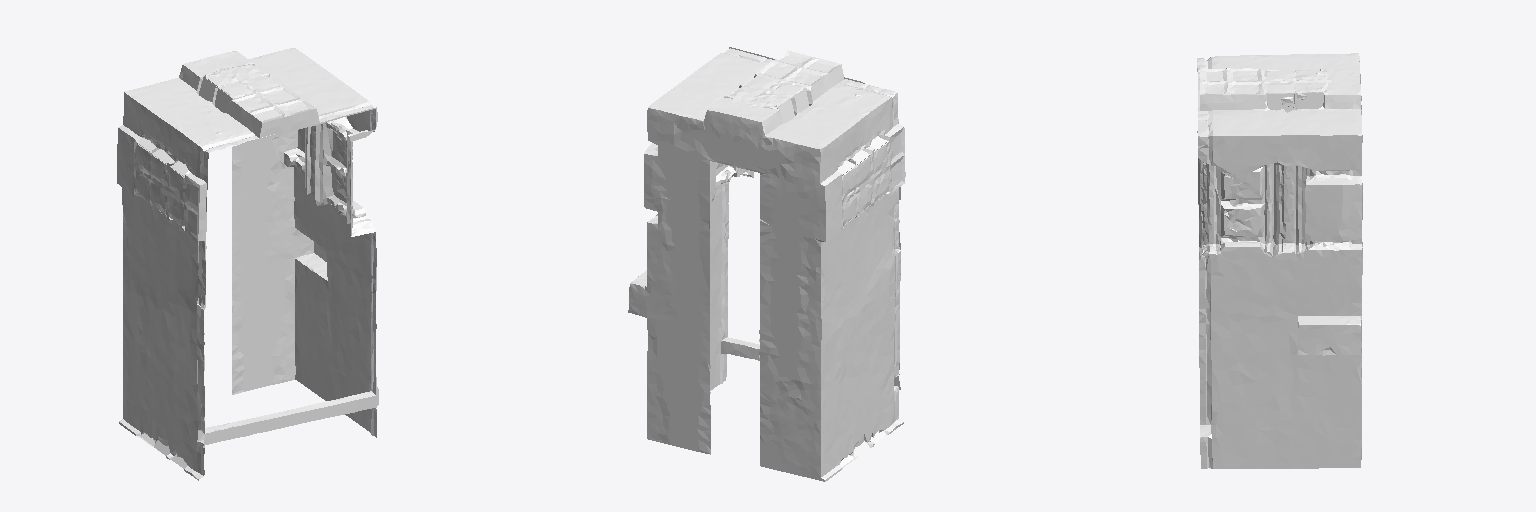
File: 3Back_B.obj
3 views of the same model, side by side, from view 1: azimuth 30°, elevation 25°; view 2: azimuth 150°, elevation 25°; view 3: azimuth 270°, elevation 25° (orthographic).
Parts seen in each view (by area): view 1: default; view 2: default; view 3: default.
Part boxes in pixels (bbox=[...]): default: bbox=[117, 48, 378, 480]; default: bbox=[628, 47, 905, 481]; default: bbox=[1197, 53, 1362, 468].
Size of the model in its own units: 2.57 by 4.29 by 1.86.